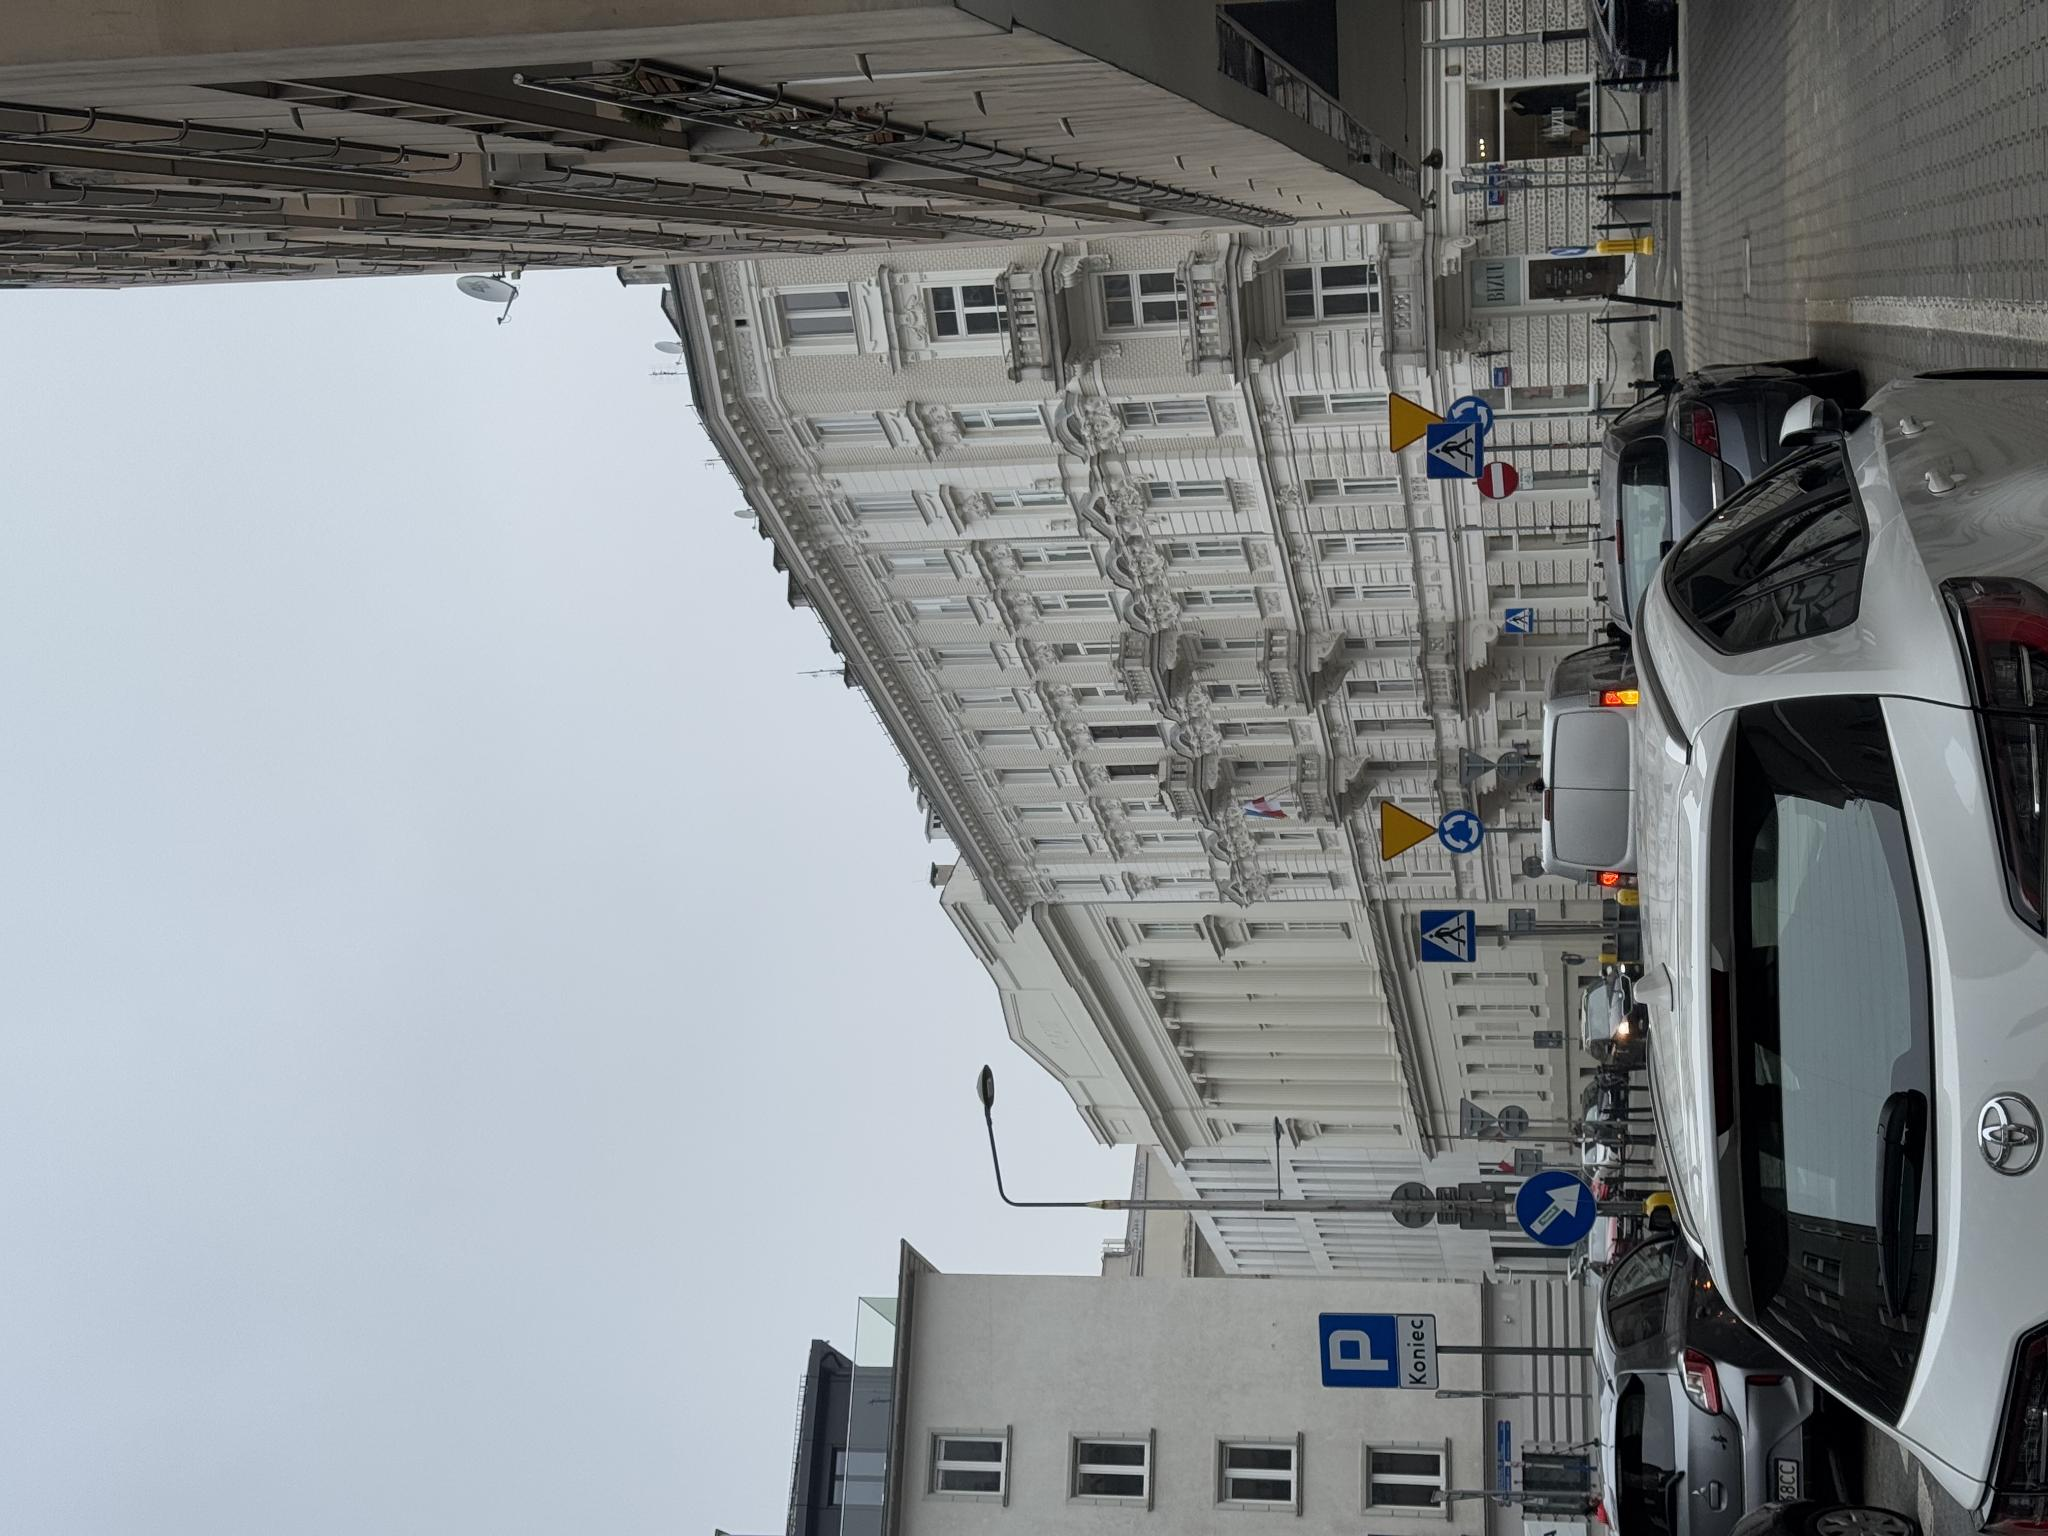information: (147, 1318, 224, 1397), (1056, 1426, 1113, 1483), (572, 1420, 627, 1476), (901, 1504, 929, 1533)
mandatory: (681, 1438, 727, 1484), (1100, 1447, 1142, 1494), (289, 1513, 368, 1536)
other: (147, 1399, 224, 1439)
prohibitory: (1037, 1476, 1076, 1518)
warning: (1084, 1388, 1145, 1444), (674, 1381, 735, 1438)
